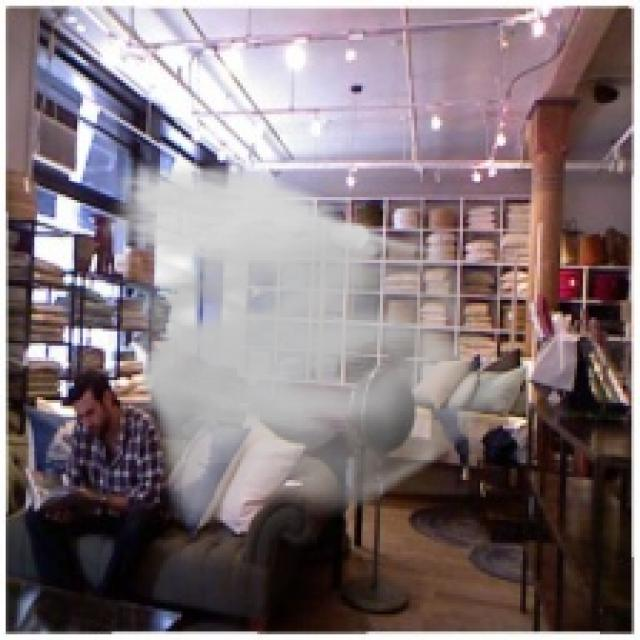smoke: (94, 157, 497, 526)
